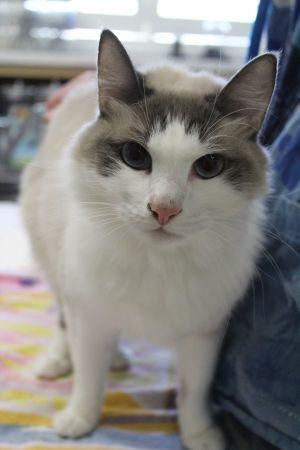ragdoll: (62, 22, 289, 269)
